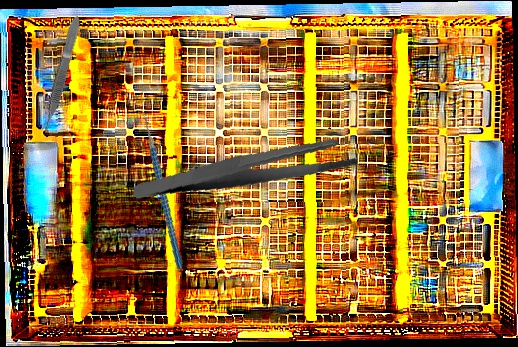Chopper: (116, 106, 199, 269)
Dressing Forceps: (133, 122, 359, 218)
Tissue Forceps: (38, 14, 84, 136)
